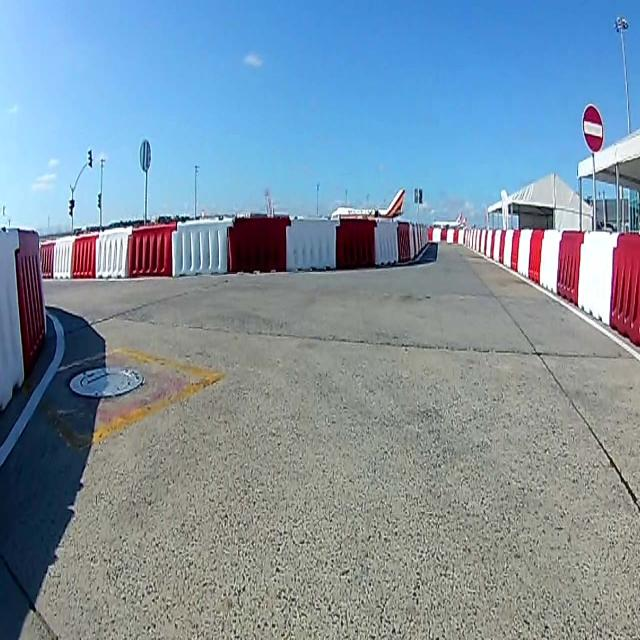girisyok: (582, 103, 604, 154)
